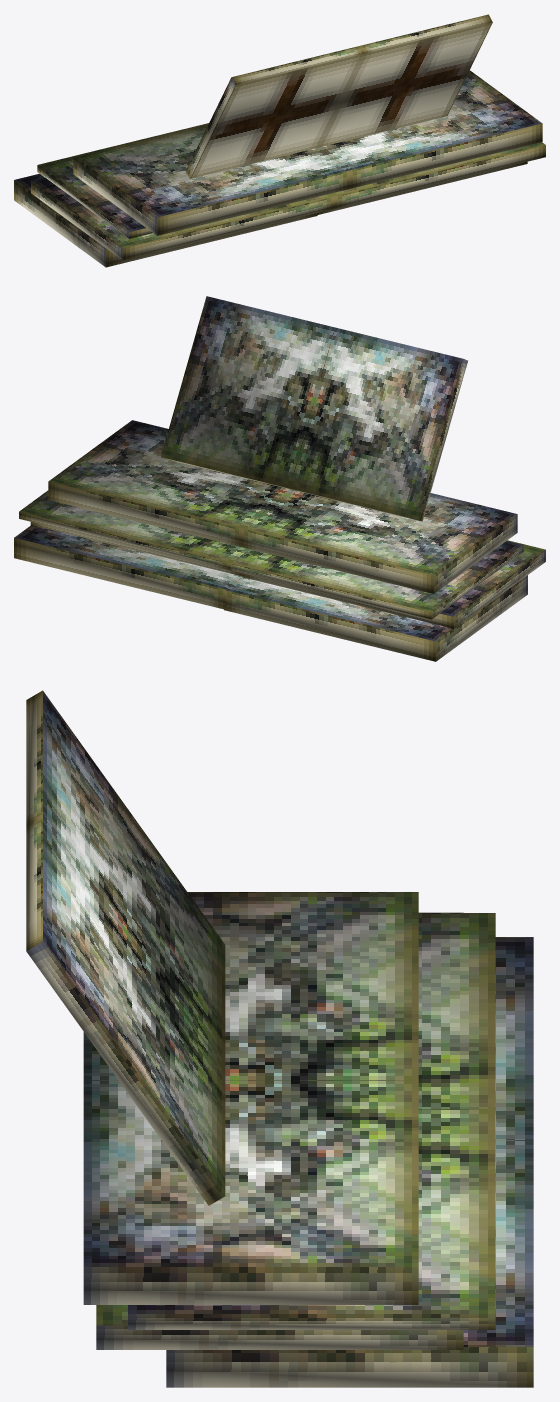
Rendered from a_SCart04.glb.
The picture shows the model from 3 angles, top to bottom: view 1: azimuth 30°, elevation 25°; view 2: azimuth 150°, elevation 25°; view 3: azimuth 270°, elevation 25°; orthographic projection. The views are drawn at different scales.
Visible parts, largest first — view 1: a_SCart04; view 2: a_SCart04; view 3: a_SCart04.
Boxes of the visible parts, <box> form: a_SCart04: <box>14,14,545,267</box>; a_SCart04: <box>14,296,545,661</box>; a_SCart04: <box>26,690,533,1387</box>.
Bounding box in the file's own units: 1.21 × 0.5135 × 0.6223.
1 material, 1 textured.
